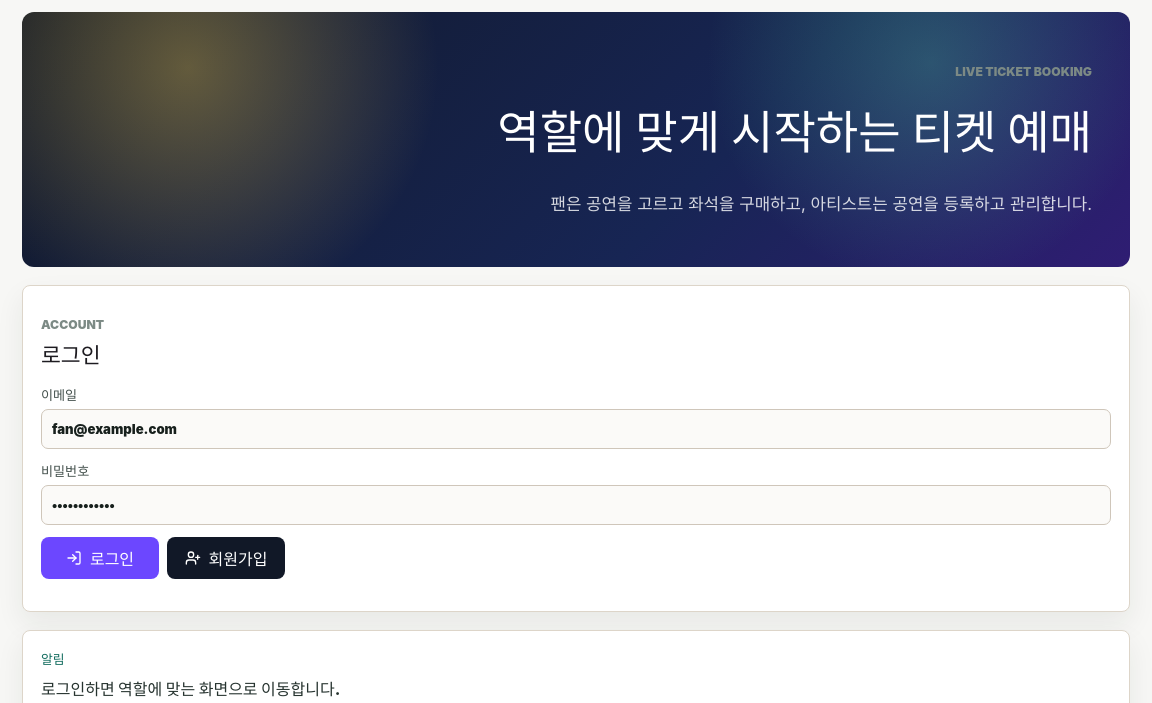
Test: Ticket frontend › routes FAN users to the fan home after login
The image size is (1152, 703).
Click the button "로그인".
click(100, 558)  # box [41,538,159,580]
(page scrolled)
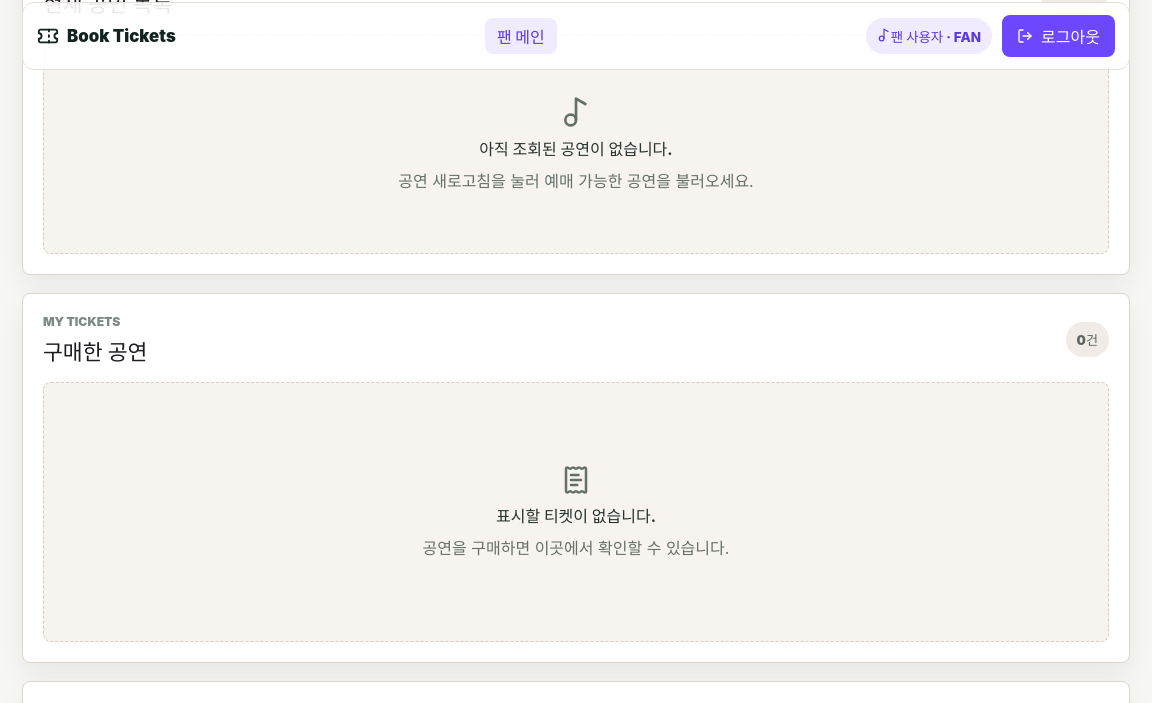
Result: the heading "구매한 공연" is shown at [43,335,148,366]
